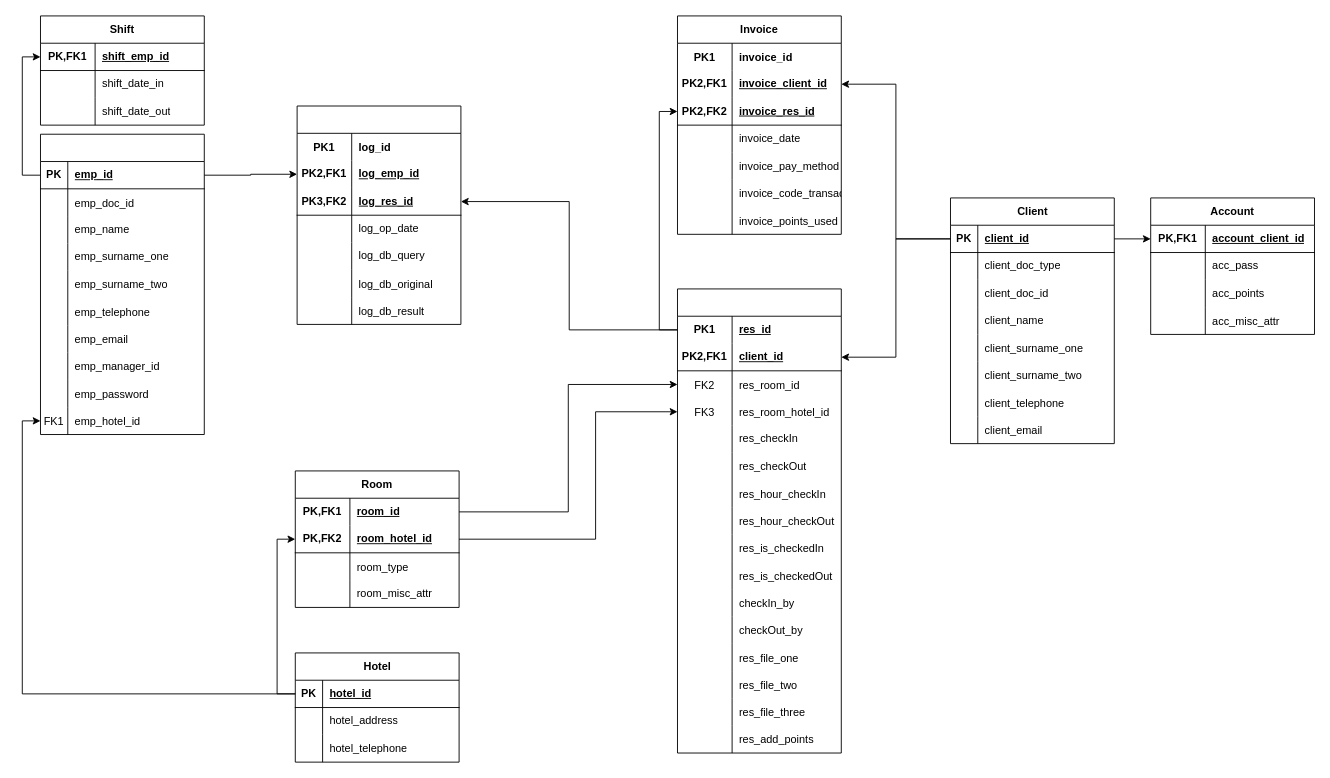
This 1330x778 diagram has some shape labels left out. Each missing label, with the box of its shape:
Employee: (40, 133, 204, 435)
Employee_Reservation_Log: (296, 105, 461, 324)
Reservations: (677, 288, 841, 753)
